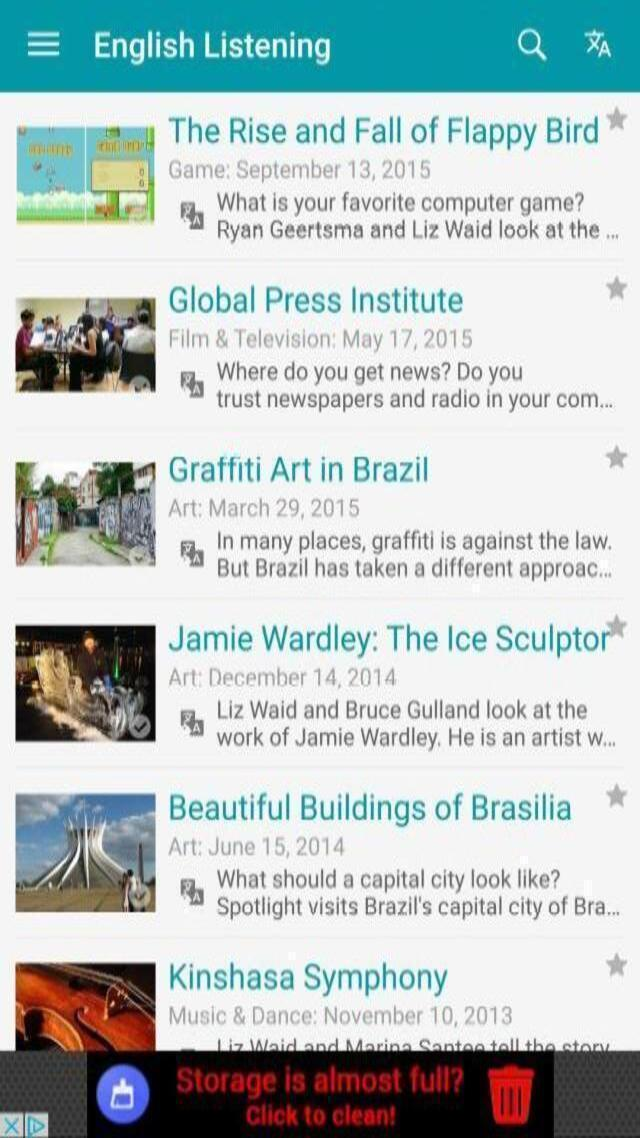Icon: (16, 788, 158, 912), (16, 624, 157, 743), (12, 464, 158, 576), (9, 286, 154, 394), (14, 126, 158, 223), (14, 958, 152, 1053), (95, 1067, 148, 1130), (488, 1064, 532, 1128), (508, 21, 553, 64), (22, 27, 66, 63), (579, 27, 621, 62), (602, 439, 632, 472), (602, 104, 632, 134), (604, 952, 632, 982), (602, 274, 630, 304), (602, 782, 630, 811)
Image: (178, 876, 207, 912), (176, 368, 207, 401), (179, 709, 207, 742), (179, 200, 206, 234)
Text: (168, 108, 596, 152), (162, 788, 582, 827), (165, 623, 613, 656), (212, 892, 631, 924), (212, 554, 625, 586), (214, 386, 626, 416), (213, 724, 619, 754), (212, 218, 628, 247), (213, 694, 594, 724), (165, 282, 477, 318), (87, 25, 339, 69), (164, 960, 452, 998), (212, 189, 596, 217), (212, 528, 618, 554), (164, 1001, 526, 1030), (163, 452, 440, 489), (213, 864, 565, 892), (162, 323, 483, 352), (214, 356, 542, 384), (162, 156, 442, 186), (168, 662, 404, 691), (166, 832, 354, 862), (168, 495, 370, 521), (181, 537, 206, 571)
